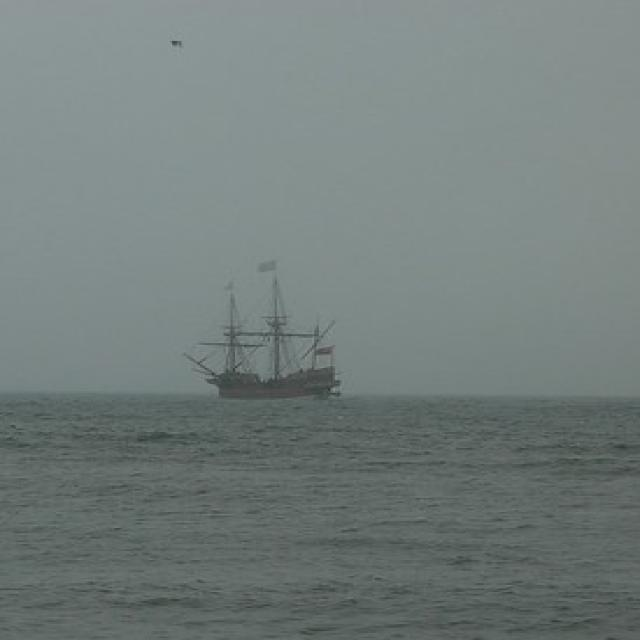fishing boat: (195, 264, 353, 392)
